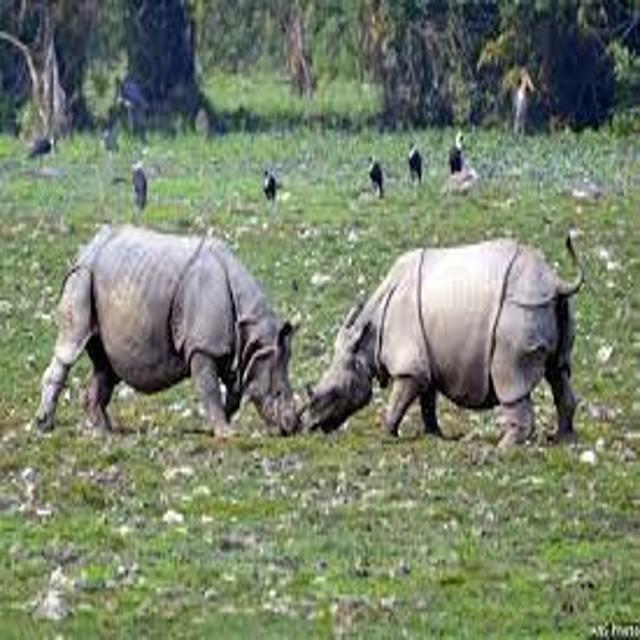rhino: (293, 200, 610, 482), (18, 191, 322, 482)
